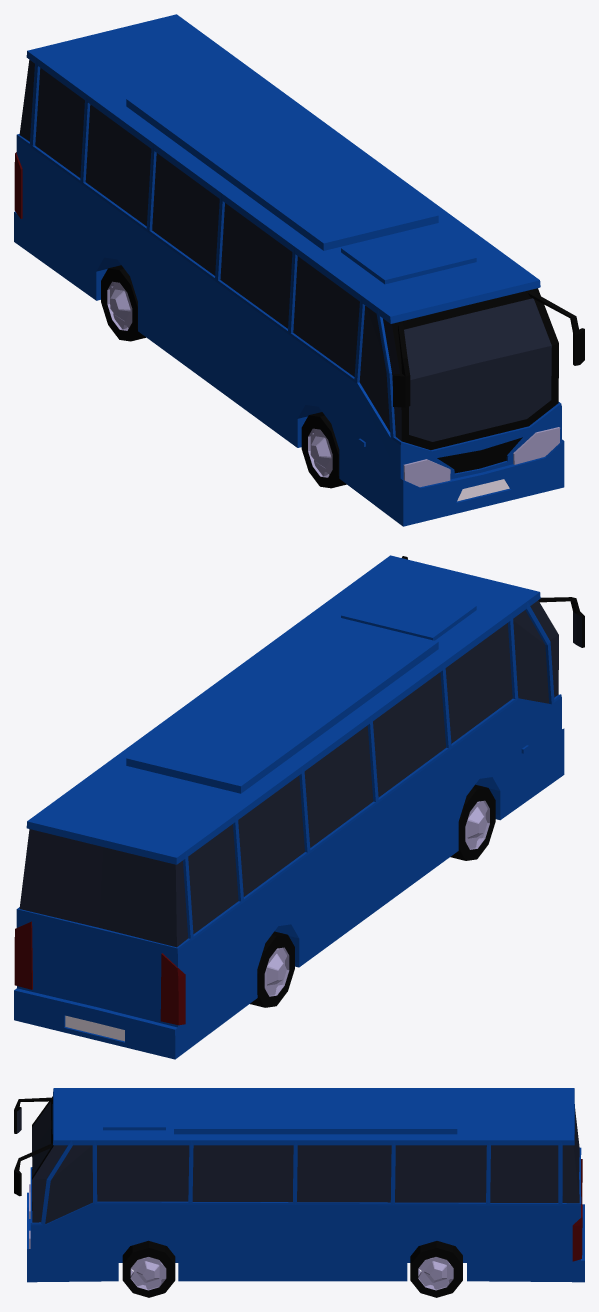
Rendered from bus.glb.
3 views of the same model, one above another, from view 1: azimuth 30°, elevation 25°; view 2: azimuth 150°, elevation 25°; view 3: azimuth 270°, elevation 25° (orthographic). The views are drawn at different scales.
Parts seen in each view (by area): view 1: Bus, Bus_wheel_front_right, Bus_wheel_rear_right; view 2: Bus, Bus_wheel_rear_right, Bus_wheel_front_right; view 3: Bus, Bus_wheel_front_left, Bus_wheel_rear_left.
Part boxes in pixels (box(x1,y1,x2,y2)): Bus: box(14, 14, 584, 526); Bus_wheel_front_right: box(301, 412, 346, 488); Bus_wheel_rear_right: box(101, 265, 145, 341); Bus: box(14, 555, 584, 1059); Bus_wheel_rear_right: box(250, 931, 294, 1007); Bus_wheel_front_right: box(450, 784, 495, 860); Bus: box(14, 1088, 584, 1282); Bus_wheel_front_left: box(122, 1240, 175, 1297); Bus_wheel_rear_left: box(410, 1241, 462, 1297).
Bounding box in the file's own units: 381 × 427 × 1370.
